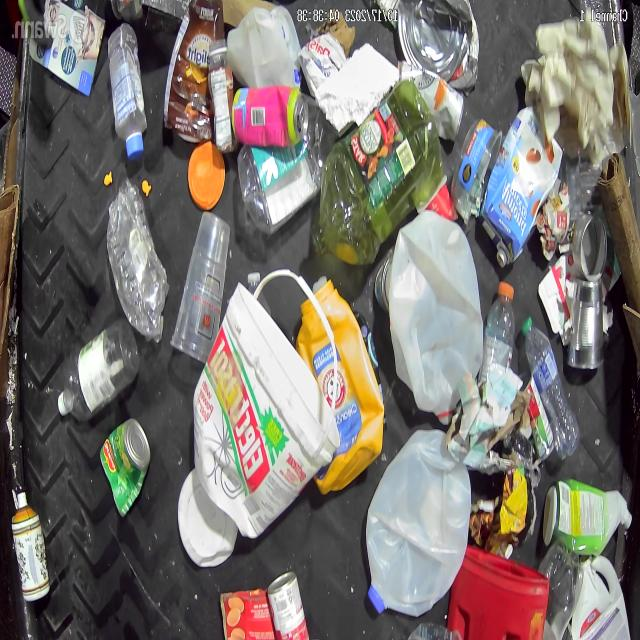can: (398, 0, 480, 92), (100, 419, 151, 520), (231, 87, 309, 147), (562, 274, 604, 371), (267, 570, 313, 639), (571, 213, 608, 282)
milk_jug: (365, 433, 471, 613), (388, 212, 481, 408), (226, 2, 301, 88), (567, 553, 633, 640)
non_white_jug: (191, 286, 336, 522), (295, 274, 385, 496), (481, 107, 564, 268), (447, 547, 548, 640)
plastic_bottle: (311, 81, 445, 267), (58, 318, 140, 423), (522, 316, 579, 460)
